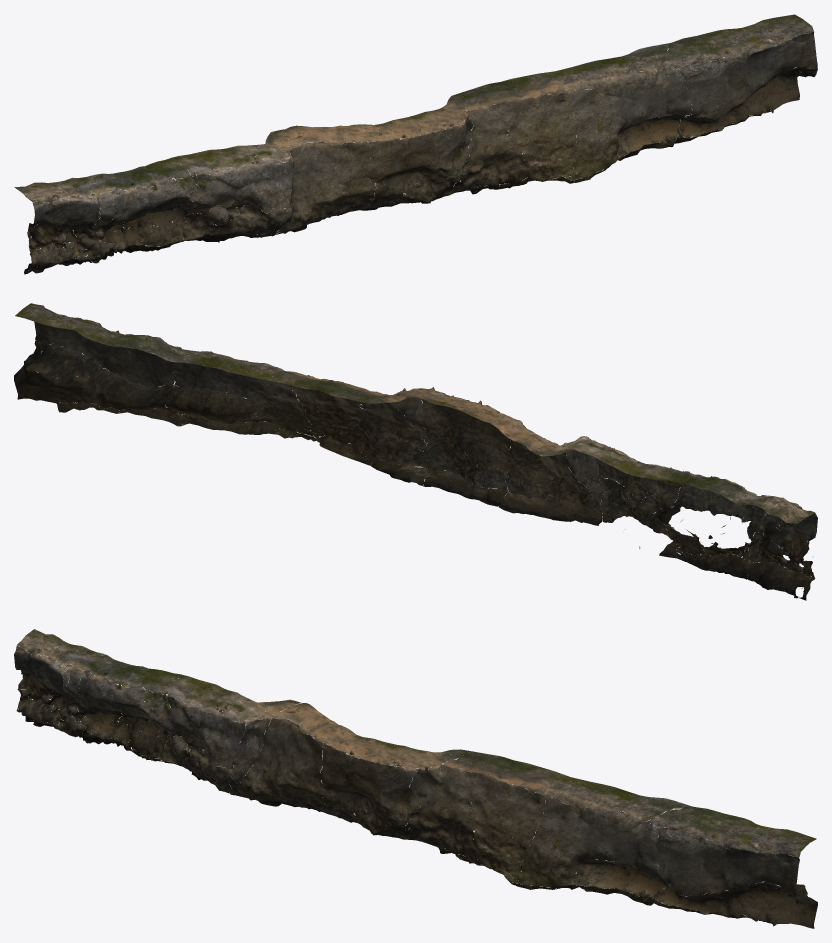
The model's file is coastal_cliff_01.glb.
3 views of the same model, one above another, from view 1: azimuth 30°, elevation 25°; view 2: azimuth 150°, elevation 25°; view 3: azimuth 330°, elevation 25° (orthographic). The views are drawn at different scales.
Parts seen in each view (by area): view 1: coastal_cliff_01; view 2: coastal_cliff_01; view 3: coastal_cliff_01.
Boxes of the visible parts, <box> form: coastal_cliff_01: <box>14,14,817,274</box>; coastal_cliff_01: <box>14,303,817,600</box>; coastal_cliff_01: <box>14,629,817,928</box>.
Size of the model in its own units: 91.98 by 10.26 by 10.96.
1 material, 1 textured.
